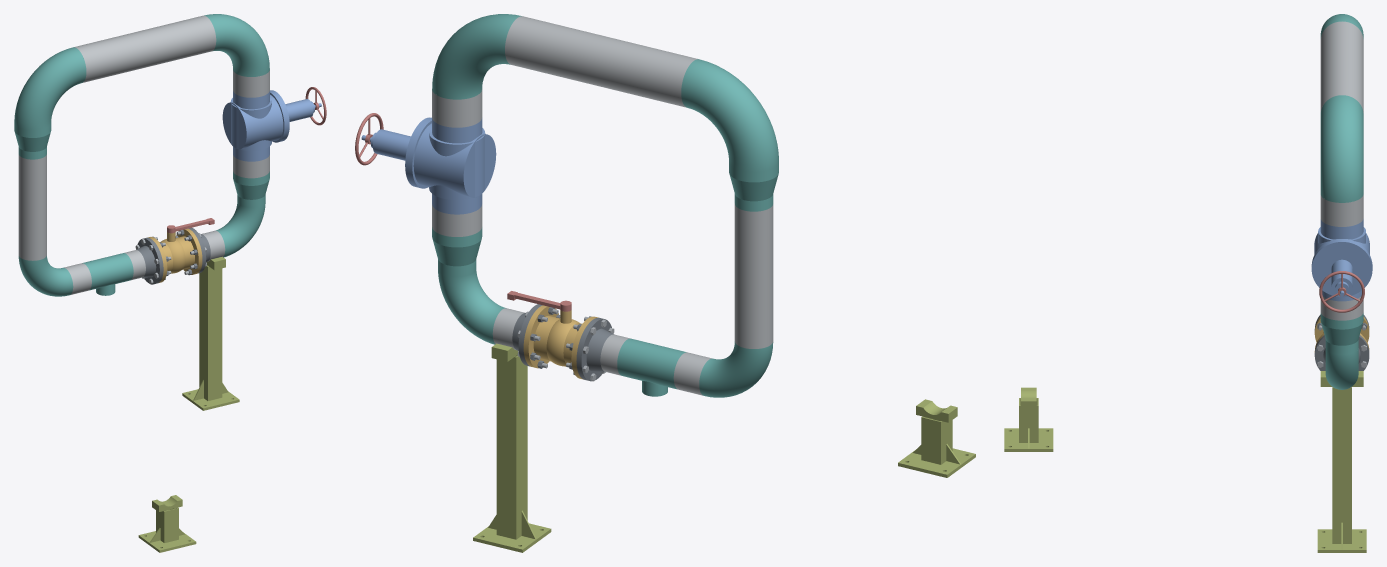
File: step_78.glb
3 renders of one model, left to right at view 1: azimuth 30°, elevation 25°; view 2: azimuth 150°, elevation 25°; view 3: azimuth 270°, elevation 25°, orthographic. The views are drawn at different scales.
Visible parts, largest first — view 1: part__8" pipe, top run, 890 long, part__pipe support SP-101, tall, part__8" gate valve body GV-101, part__8" elbow top left, part__6" pipe, left riser, 664 long, part__8" elbow top right, part__pipe support SP-101, short, part__6" ball valve body BV-101, part__6" elbow bottom left, part__6" x 4" reducing tee, part__6" elbow bottom right, part__reducer left riser (+8 smaller); view 2: part__8" pipe, top run, 890 long, part__pipe support SP-101, tall, part__8" gate valve body GV-101, part__8" elbow top left, part__6" pipe, left riser, 664 long, part__8" elbow top right, part__pipe support SP-101, short, part__6" ball valve body BV-101, part__6" elbow bottom left, part__6" elbow bottom right, part__6" x 4" reducing tee, part__reducer right leg (+7 smaller); view 3: part__8" elbow top right, part__pipe support SP-101, tall, part__8" pipe, top run, 890 long, part__8" gate valve bonnet and stem, part__pipe support SP-101, short, part__reducer right leg, part__8" gate valve body GV-101, part__6" elbow bottom right, part__8" pipe, right leg above the gate valve, 136 long, part__8" pipe, right leg below the gate valve, 109 long, part__8" gate valve handwheel, part__6" flange, ball valve outlet.
Boxes of the visible parts, x1,y1,x2,y2 form: part__8" pipe, top run, 890 long: (74, 15, 216, 82); part__pipe support SP-101, tall: (182, 256, 239, 410); part__8" gate valve body GV-101: (222, 91, 287, 161); part__8" elbow top left: (14, 47, 86, 130); part__6" pipe, left riser, 664 long: (18, 154, 46, 260); part__8" elbow top right: (204, 14, 269, 76); part__pipe support SP-101, short: (138, 495, 196, 552); part__6" ball valve body BV-101: (148, 228, 202, 282); part__6" elbow bottom left: (18, 256, 73, 296); part__6" x 4" reducing tee: (82, 253, 133, 295); part__6" elbow bottom right: (216, 202, 265, 257); part__reducer left riser: (14, 123, 51, 159); part__8" pipe, top run, 890 long: (505, 16, 698, 107); part__pipe support SP-101, tall: (473, 343, 551, 552); part__8" gate valve body GV-101: (408, 117, 496, 214); part__8" elbow top left: (681, 59, 778, 171); part__6" pipe, left riser, 664 long: (734, 203, 773, 348); part__8" elbow top right: (432, 14, 521, 99); part__pipe support SP-101, short: (898, 399, 975, 477); part__6" ball valve body BV-101: (523, 305, 597, 379); part__6" elbow bottom left: (699, 341, 773, 397); part__6" elbow bottom right: (438, 270, 506, 344); part__6" x 4" reducing tee: (617, 338, 686, 396); part__reducer right leg: (432, 227, 482, 276); part__8" elbow top right: (1320, 95, 1363, 202); part__pipe support SP-101, tall: (1317, 371, 1366, 552); part__8" pipe, top run, 890 long: (1320, 21, 1363, 112); part__8" gate valve bonnet and stem: (1311, 240, 1372, 297); part__pipe support SP-101, short: (1004, 387, 1053, 451); part__reducer right leg: (1320, 312, 1363, 354); part__8" gate valve body GV-101: (1311, 219, 1372, 301); part__6" elbow bottom right: (1325, 348, 1358, 389); part__8" pipe, right leg above the gate valve, 136 long: (1320, 195, 1363, 226); part__8" pipe, right leg below the gate valve, 109 long: (1320, 296, 1363, 320); part__8" gate valve handwheel: (1319, 271, 1364, 312); part__6" flange, ball valve outlet: (1314, 335, 1369, 370).
Size of the model in its own units: 2102 by 2510 by 1881.
